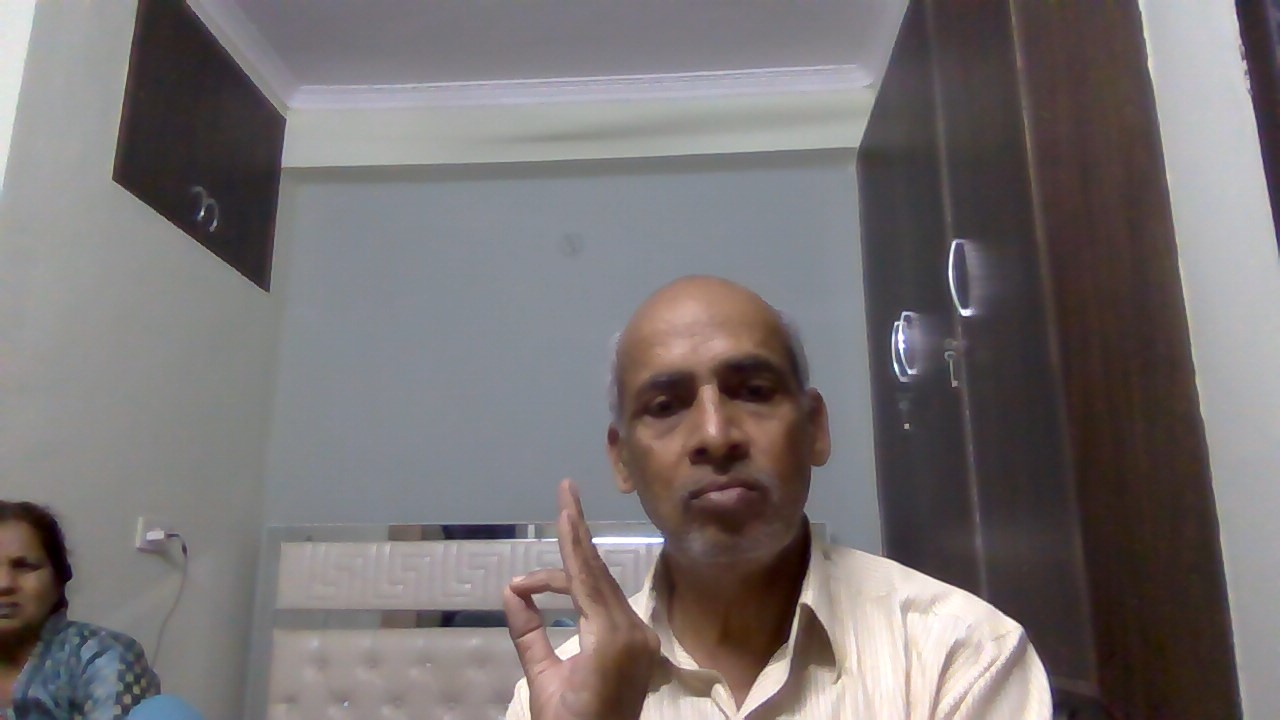Copy: (488, 471, 675, 720)
